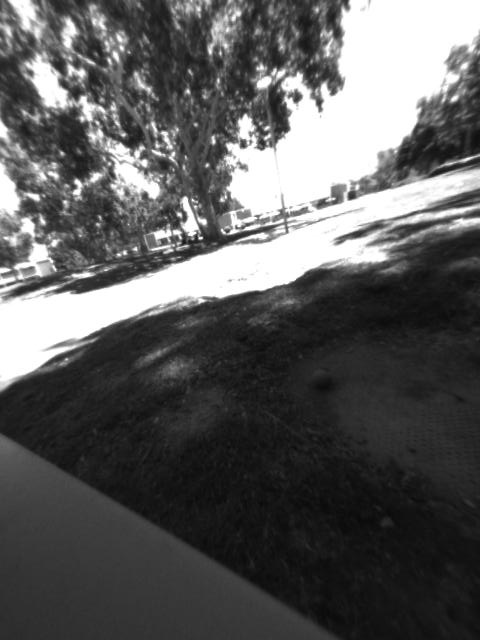dogtoy: (295, 358, 346, 400)
